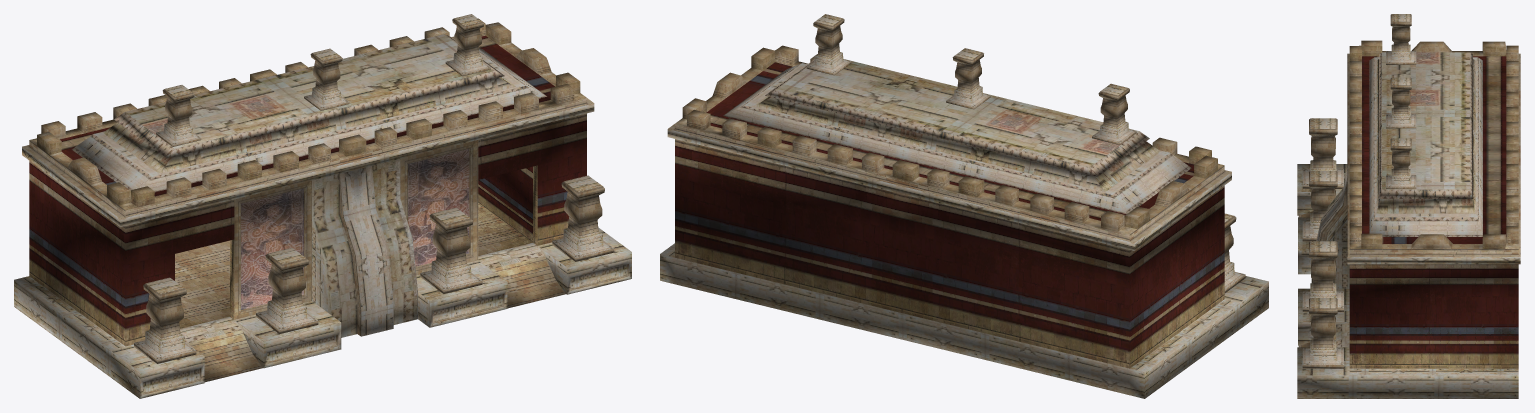
The model's file is Tok_building2.dae.
The picture shows the model from 3 angles, left to right: view 1: azimuth 30°, elevation 25°; view 2: azimuth 150°, elevation 25°; view 3: azimuth 270°, elevation 25°; orthographic projection. The views are drawn at different scales.
Visible parts, largest first — view 1: meshU3D; view 2: meshU3D; view 3: meshU3D.
Part boxes in pixels (x1,y1,x2,y2): meshU3D: [14, 14, 631, 398]; meshU3D: [660, 14, 1268, 398]; meshU3D: [1297, 14, 1520, 398].
Size of the model in its own units: 503 by 235 by 225.
3 materials, 3 textured.
